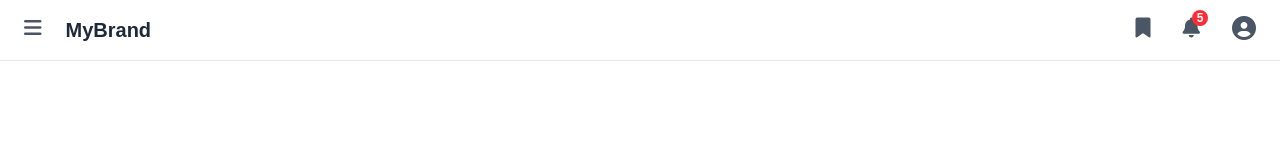
Header Component › toggles user dropdown and closes when clicking outside
Expected: the text "Logout" is not shown
Click the button named "User Profile Dropdown": (1244, 30) [1224,8,1264,52]
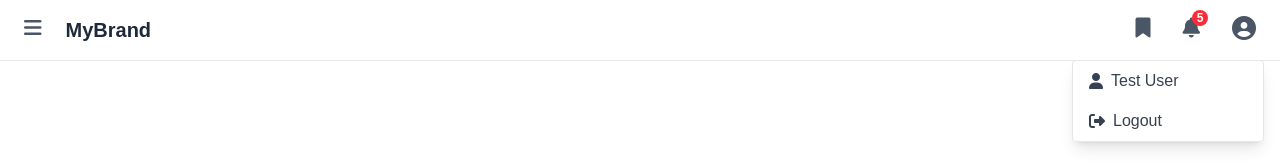
Now the text "Logout" is shown, box [1113,109,1162,133]
Now the text "Test User" is shown, box [1111,69,1179,93]
Note: Simulate clicking outside the dropdown.
Press the mouse on the element showing "MyBrand 5 Test User Logout": (640, 30) [0,0,1279,61]
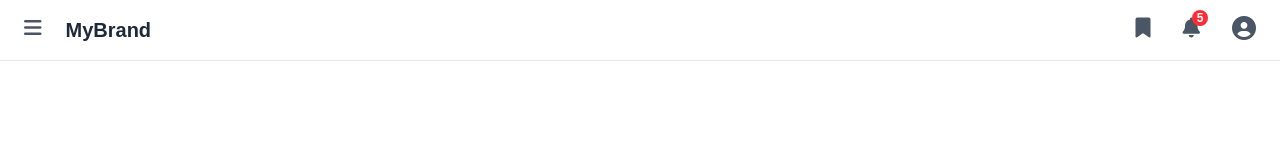
Now the button "Logout" is gone
